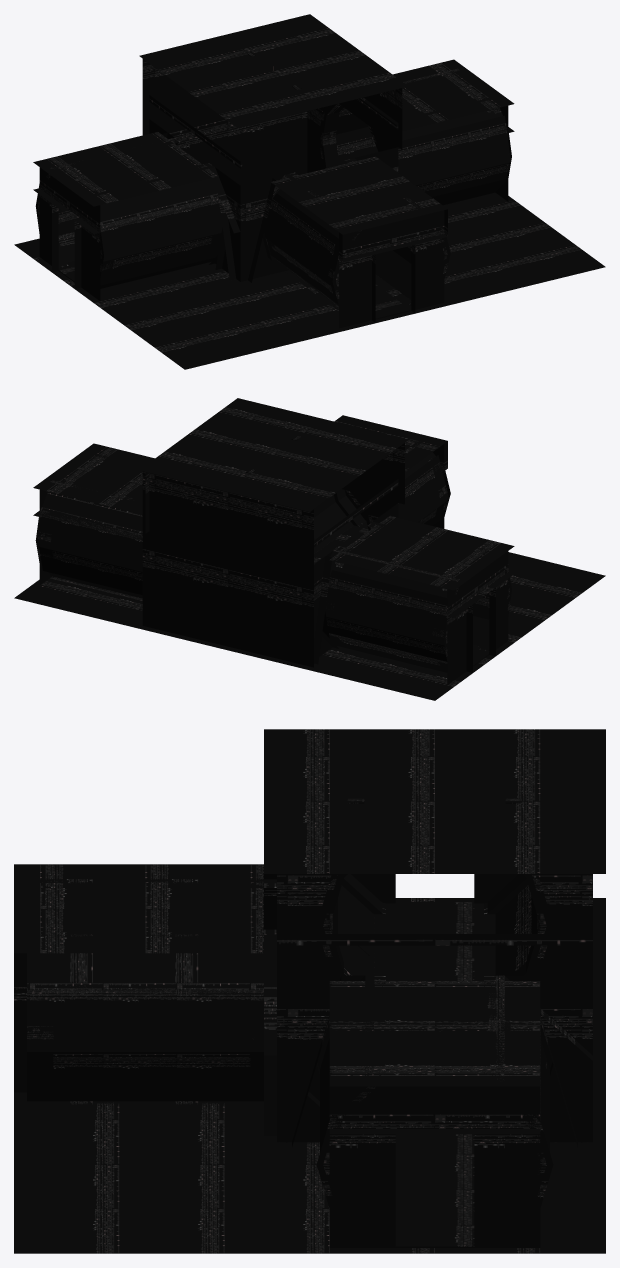
Rendered from room3tunnel_opt.obj.
The picture shows the model from 3 angles, top to bottom: view 1: azimuth 30°, elevation 25°; view 2: azimuth 150°, elevation 25°; view 3: azimuth 270°, elevation 25°; orthographic projection. The views are drawn at different scales.
Size of the model in its own units: 2048 by 759 by 1440.
